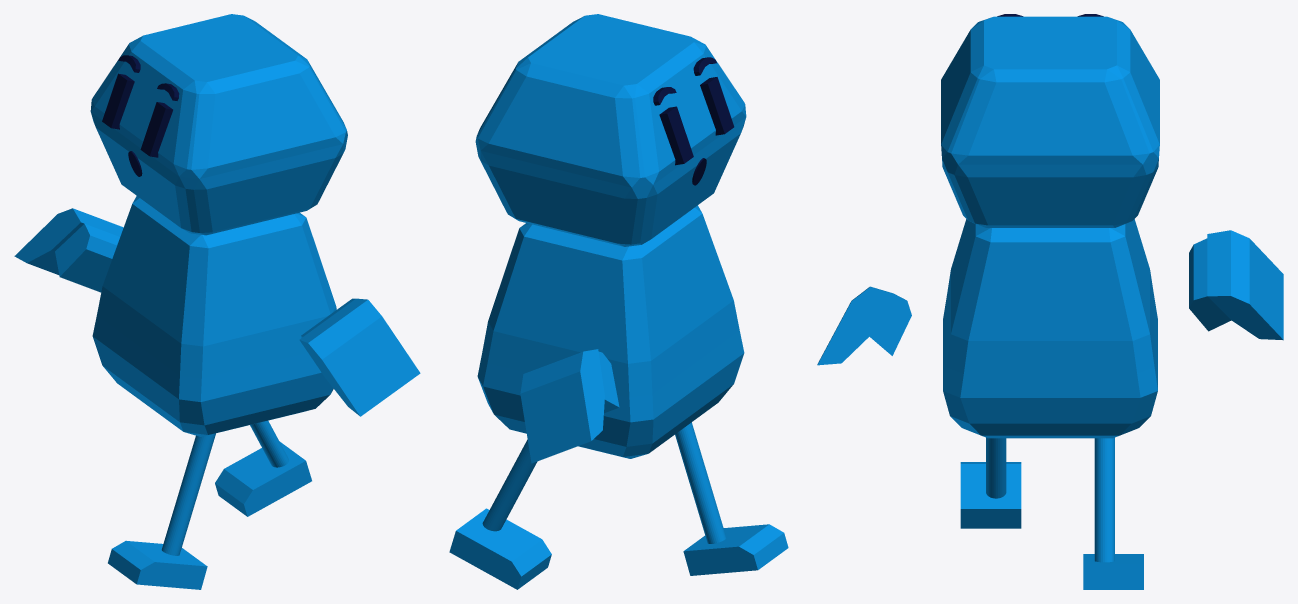
The model's file is player_blue_walk1.gltf.
The picture shows the model from 3 angles, left to right: view 1: azimuth 30°, elevation 25°; view 2: azimuth 150°, elevation 25°; view 3: azimuth 270°, elevation 25°; orthographic projection. The views are drawn at different scales.
Visible parts, largest first — view 1: body.017, head.017, hand right.011, hand left.011, foot left.017, foot right.017, leg right.017, Cube.073, Cube.072, leg left.017; view 2: head.017, body.017, hand left.011, foot left.017, foot right.017, leg right.017, leg left.017, Cube.072, Cube.073; view 3: body.017, head.017, hand left.011, hand right.011, foot right.017, leg left.017, foot left.017, leg right.017.
Part boxes in pixels (box(x1,y1,x2,y2)): body.017: box(92, 196, 336, 436); head.017: box(90, 14, 347, 235); hand right.011: box(299, 298, 420, 416); hand left.011: box(14, 208, 123, 292); foot left.017: box(215, 441, 311, 516); foot right.017: box(108, 540, 207, 589); leg right.017: box(161, 433, 215, 555); Cube.073: box(102, 73, 134, 129); Cube.072: box(140, 102, 172, 157); leg left.017: box(250, 420, 288, 467); head.017: box(475, 14, 746, 246); body.017: box(477, 205, 744, 458); hand left.011: box(520, 349, 619, 463); foot left.017: box(449, 508, 551, 589); foot right.017: box(683, 524, 788, 575); leg right.017: box(675, 422, 726, 543); leg left.017: box(482, 439, 537, 531); Cube.072: box(700, 77, 734, 135); Cube.073: box(659, 106, 693, 165); body.017: box(943, 219, 1157, 438); head.017: box(941, 16, 1159, 227); hand left.011: box(1189, 230, 1283, 340); hand right.011: box(817, 286, 911, 365); foot right.017: box(960, 462, 1021, 528); leg left.017: box(1094, 437, 1114, 562); foot left.017: box(1083, 554, 1143, 589); leg right.017: box(986, 437, 1006, 498).
Size of the model in its own units: 2.39 by 4.83 by 3.95.
